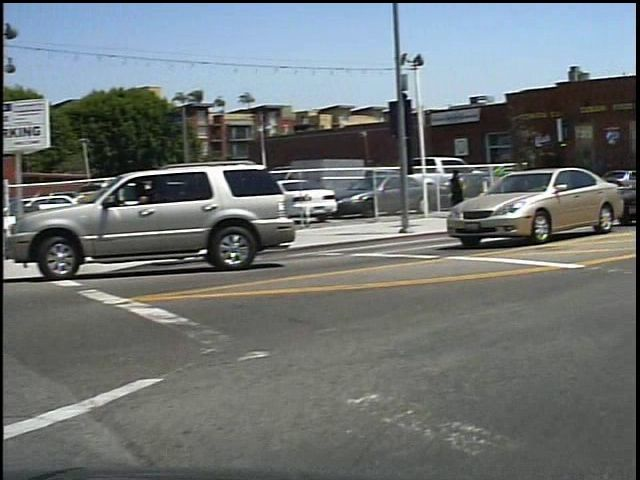person: (454, 164, 480, 222)
